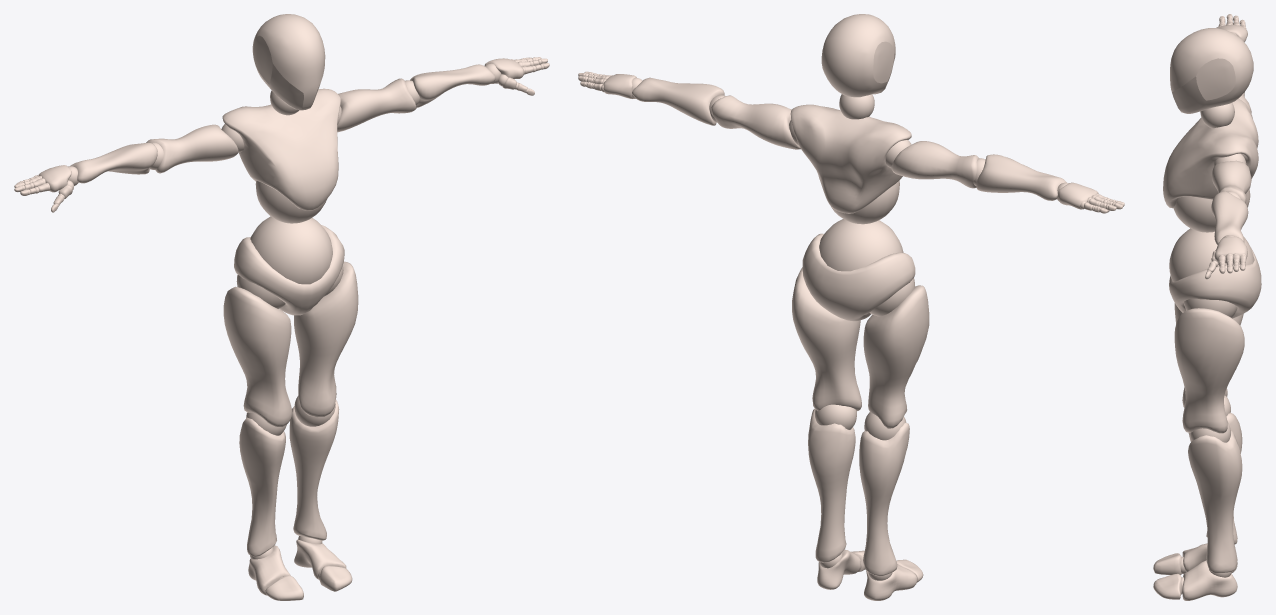
3 views of the same model, side by side, from view 1: azimuth 30°, elevation 25°; view 2: azimuth 150°, elevation 25°; view 3: azimuth 270°, elevation 25° (orthographic). The views are drawn at different scales.
Visible parts, largest first — view 1: Beta_Surface, Beta_Joints; view 2: Beta_Surface, Beta_Joints; view 3: Beta_Surface, Beta_Joints.
Boxes of the visible parts, box(x1,y1,x2,y2) form: Beta_Surface: box(14, 14, 549, 600); Beta_Joints: box(21, 57, 543, 579); Beta_Surface: box(578, 14, 1124, 600); Beta_Joints: box(584, 72, 1117, 580); Beta_Surface: box(1153, 14, 1261, 600); Beta_Joints: box(1169, 16, 1254, 594).
Bounding box in the file's own units: 0.0181 × 0.0181 × 0.00321.
